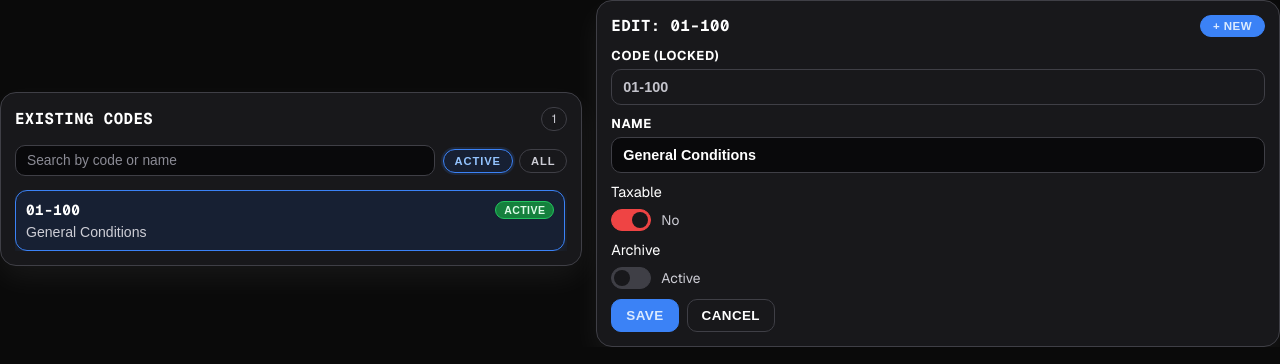
Test case: CostCodesConsole › shows empty state when no codes match search
Expected: the text "01-100" is shown, left=26, top=201, right=80, bottom=219
Type "zzz-no-match" into the field named "Search cost codes".
click(225, 160); type("zzz-no-match")  # box left=15, top=145, right=434, bottom=176
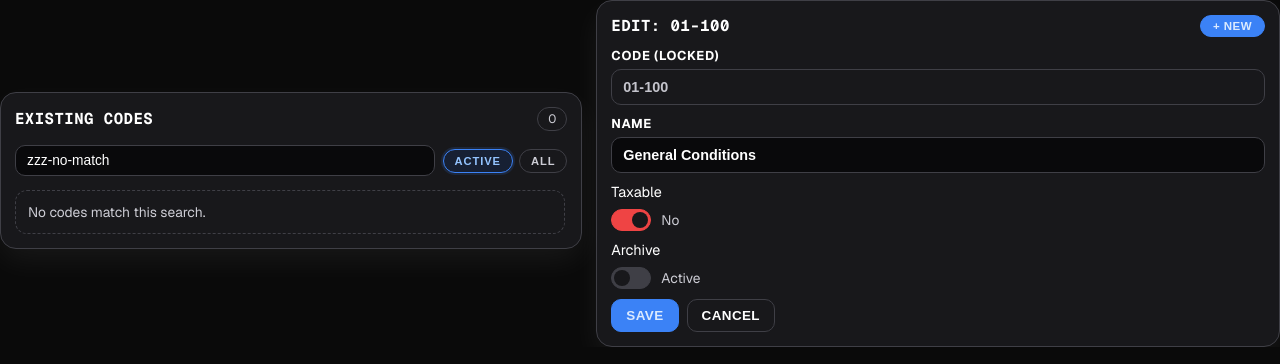
Result: the text "No codes match this search." is shown at left=15, top=190, right=565, bottom=234
